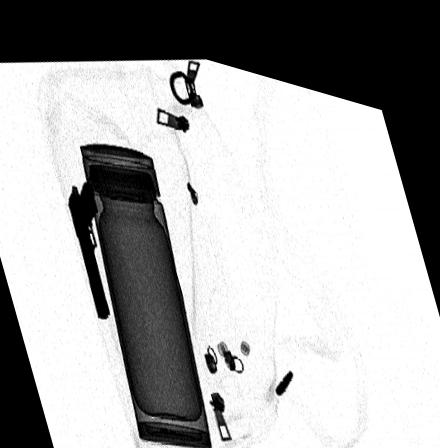Gun: (66, 173, 111, 312)
